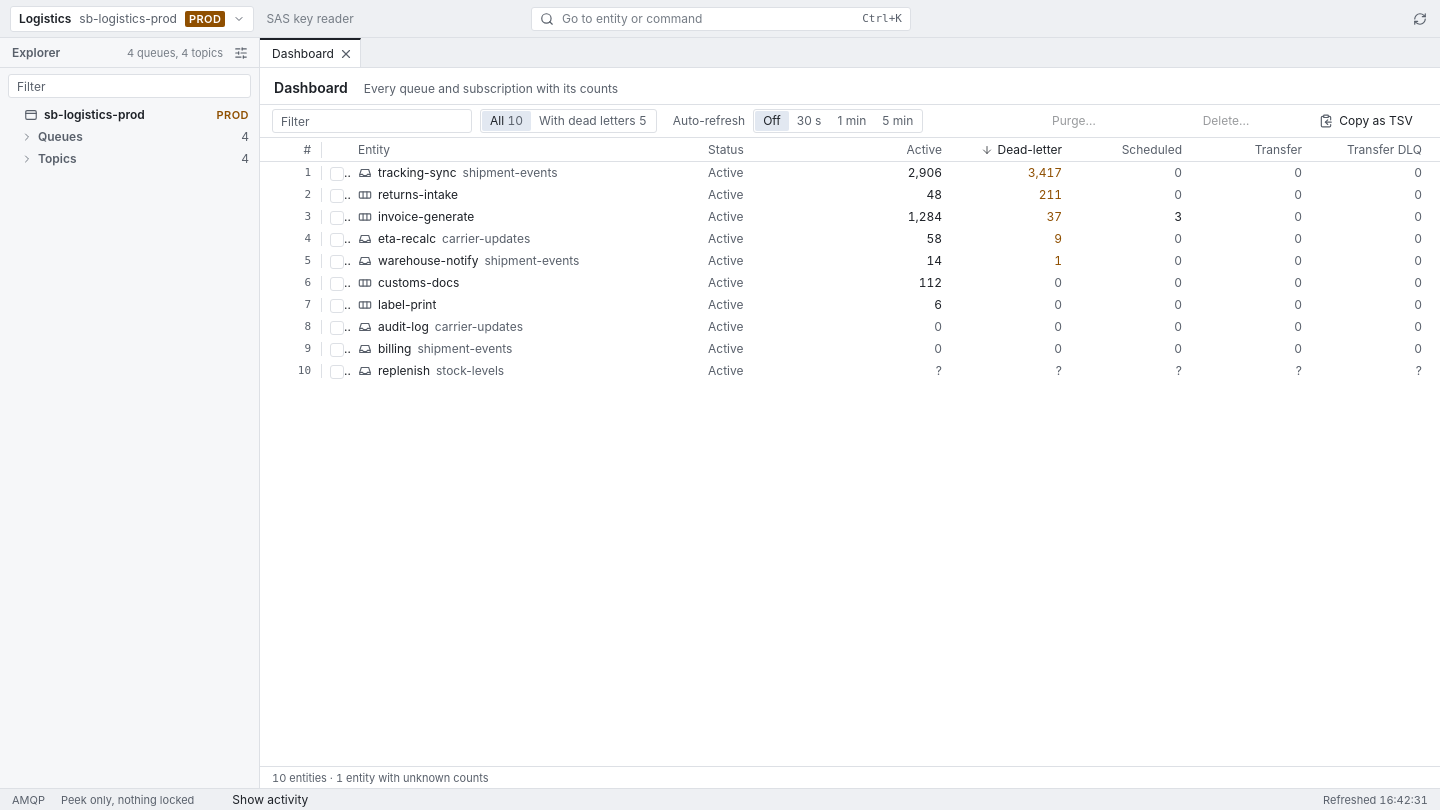
it: dashboard › counts a transfer dead letter as a dead letter, and says what unknown counts mean when nothing else is left
Expected: the table named "Dashboard" is shown, top-left (260, 138), bottom-right (1439, 379)
Press F5
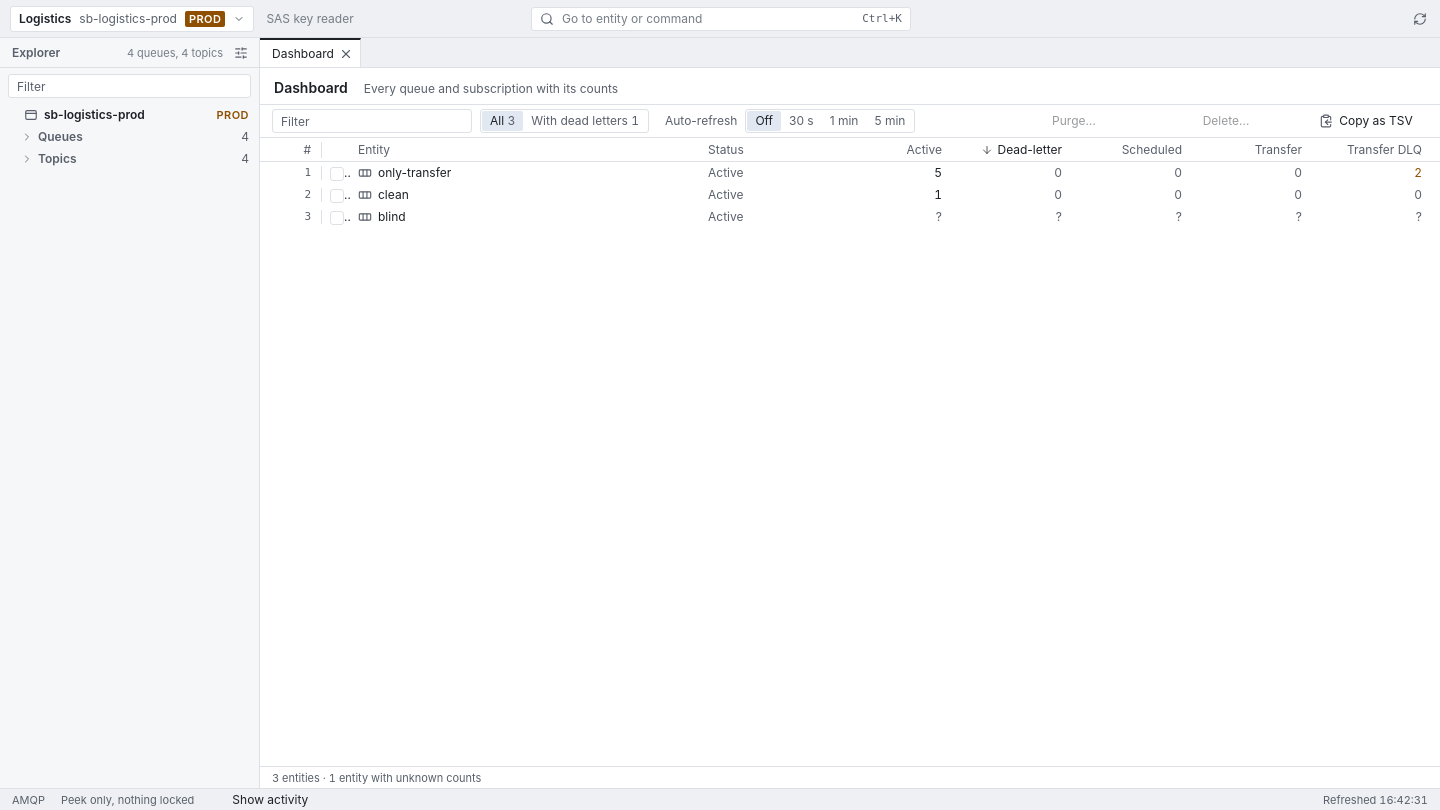
Click the radio button labelled "With dead letters 1": coordinates (585, 121) top-left (523, 111), bottom-right (647, 131)
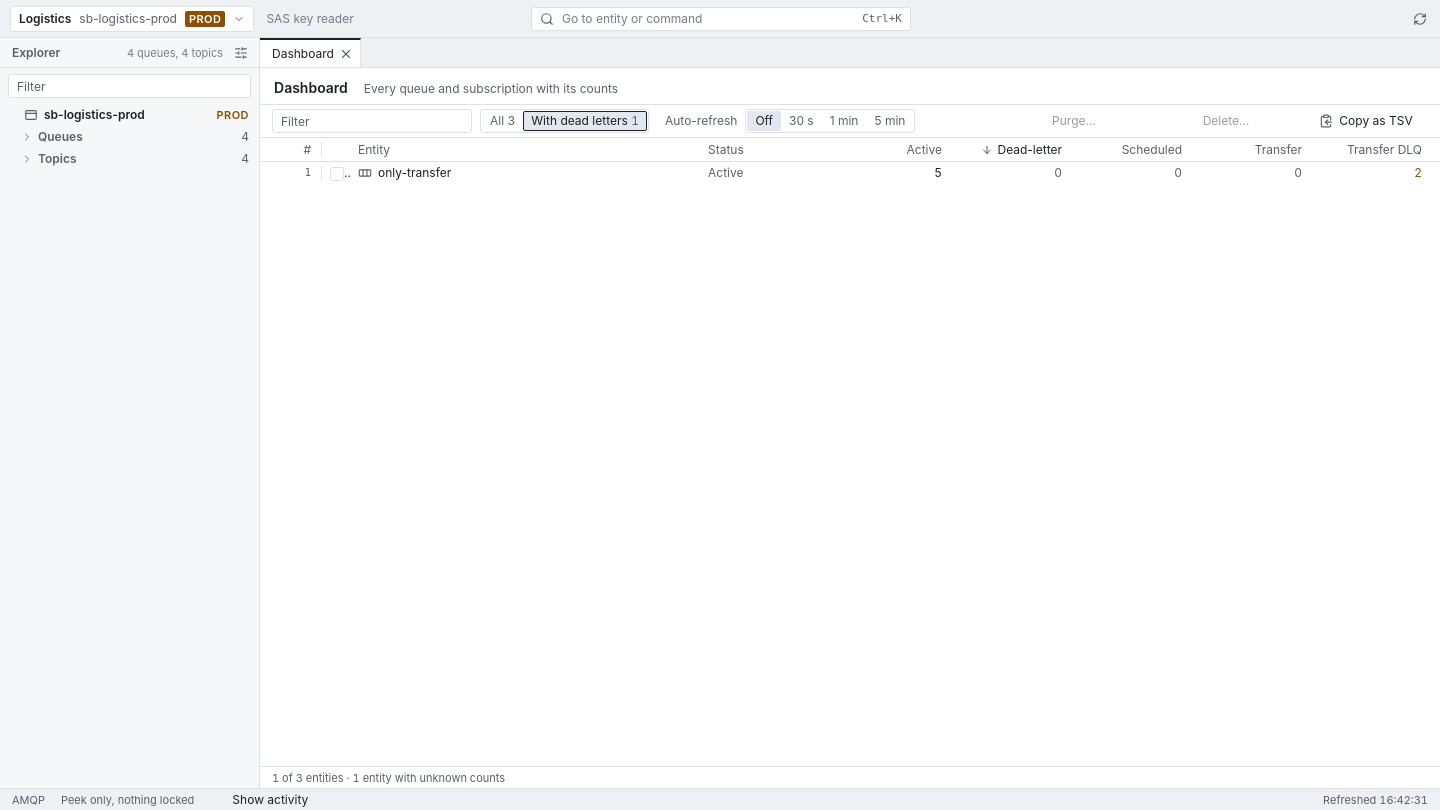
Expected: the text "only-transfer" is shown, top-left (378, 165), bottom-right (451, 181)
Expected: the text "clean" is gone
Expected: the text "blind" is gone
Press F5
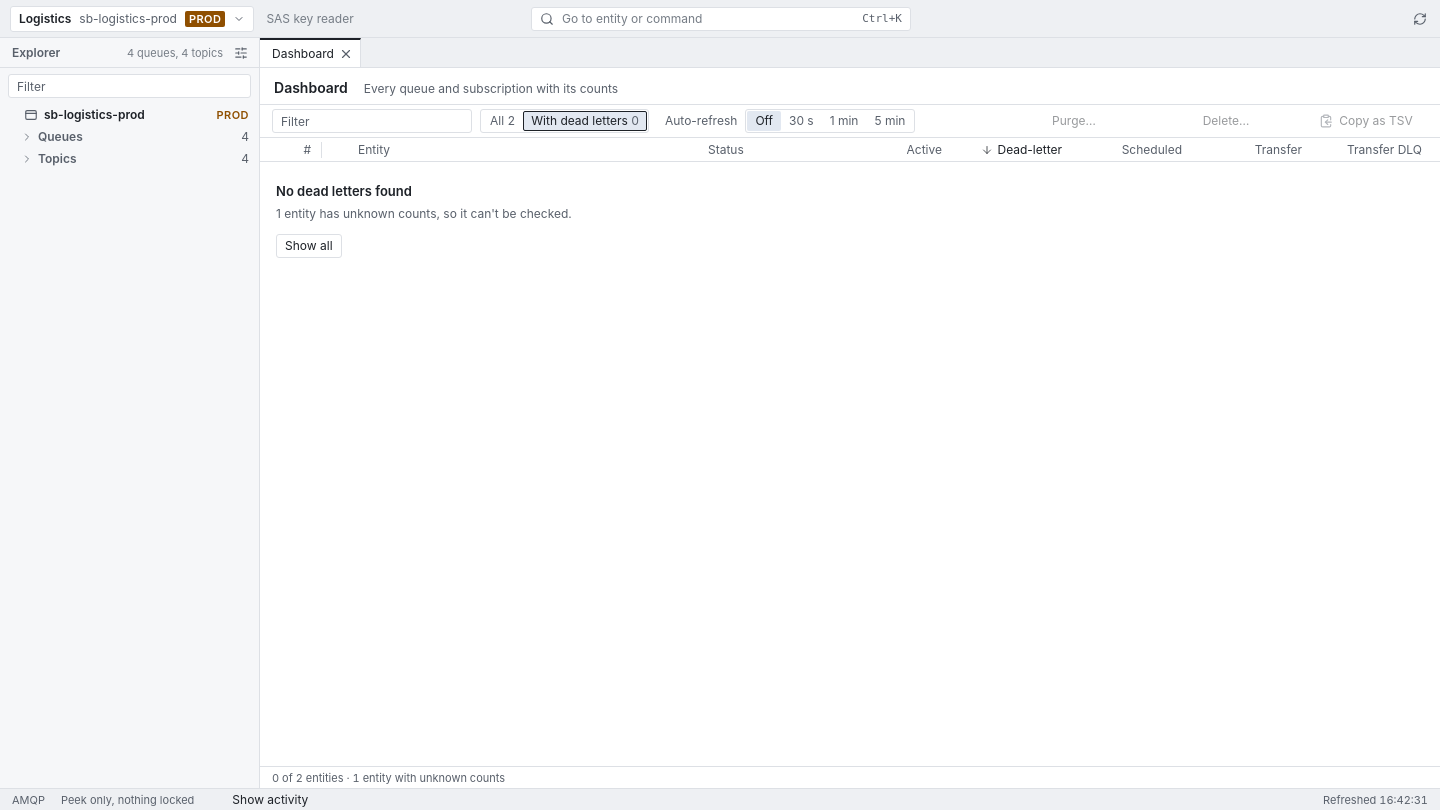
Expected: the text "No dead letters found" is shown, top-left (276, 182), bottom-right (412, 200)
Expected: the text "1 entity has unknown counts, so it can't be checked." is shown, top-left (276, 206), bottom-right (572, 221)
Click the button "Show all": coordinates (309, 246) top-left (276, 234), bottom-right (342, 258)
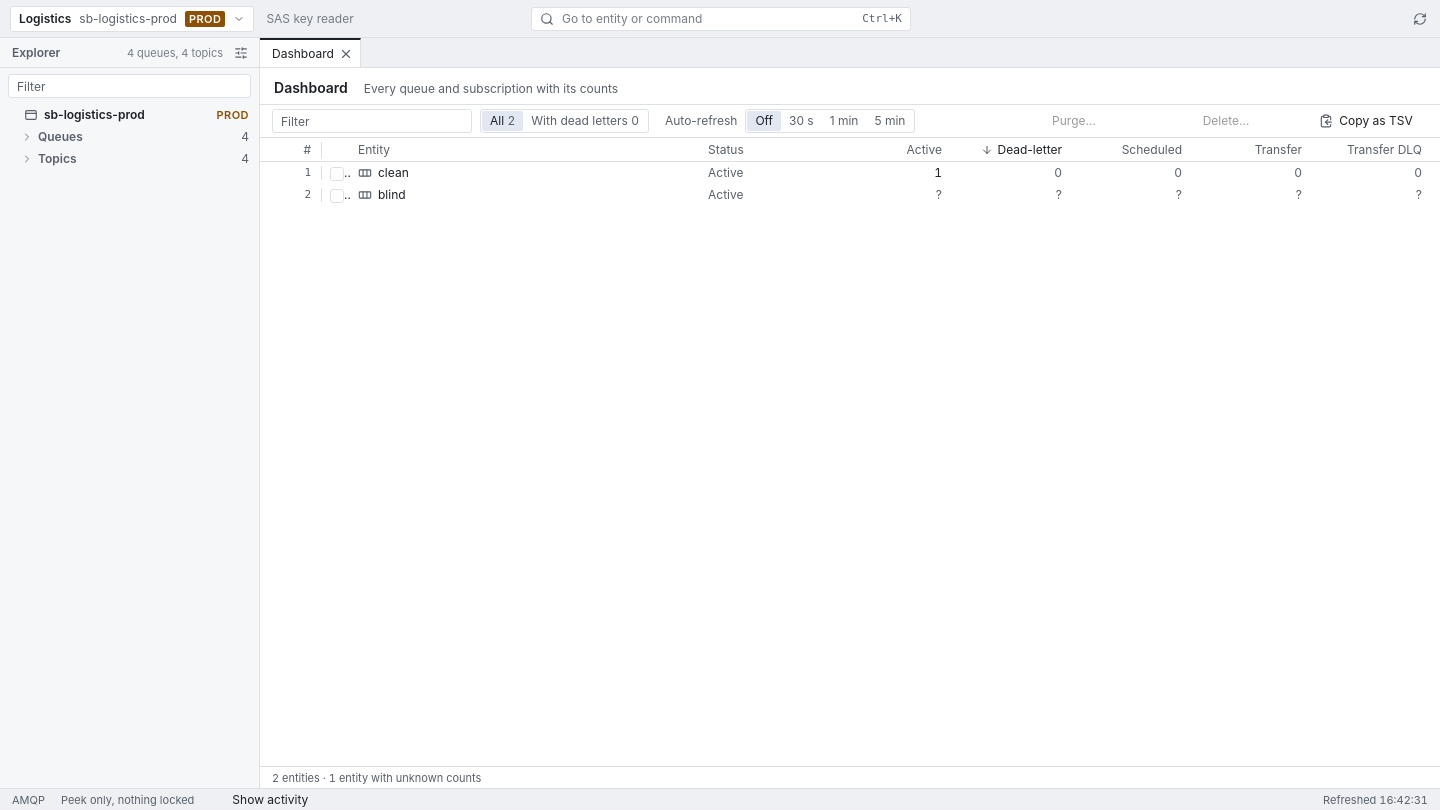
Expected: the text "blind" is shown, top-left (378, 187), bottom-right (406, 203)
